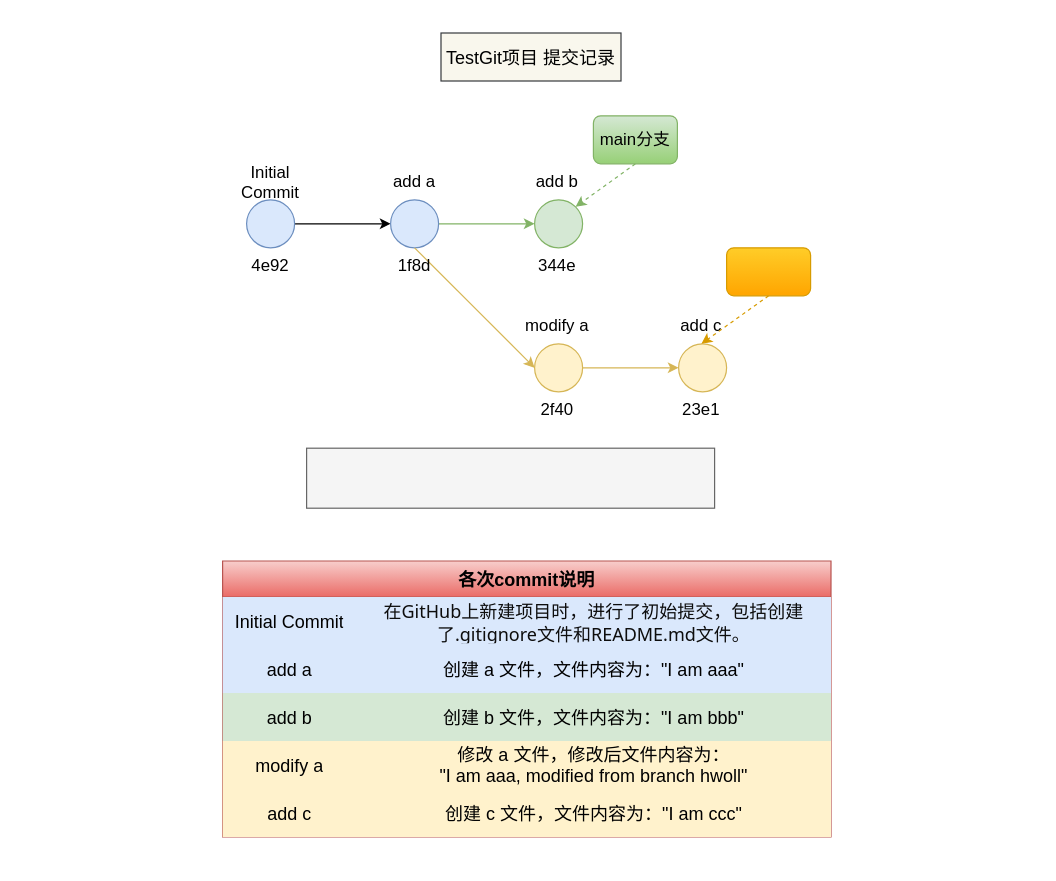
Image size: 1056x881. Some labels were removed from this diagram. Each missing label, with the box of its shape:
hwoll分支: (725, 247, 811, 296)
一个节点对应一次commit 每个节点都代表了代码库在当次提交时的完整快照: (305, 447, 715, 508)
